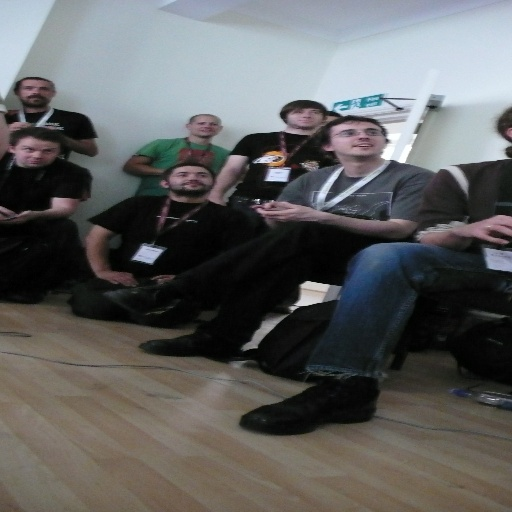hand: (449, 213, 511, 245), (262, 201, 297, 227), (93, 270, 139, 287), (3, 210, 36, 226), (0, 204, 17, 220), (5, 121, 31, 131), (152, 274, 176, 284), (205, 198, 227, 204), (41, 126, 55, 130)
